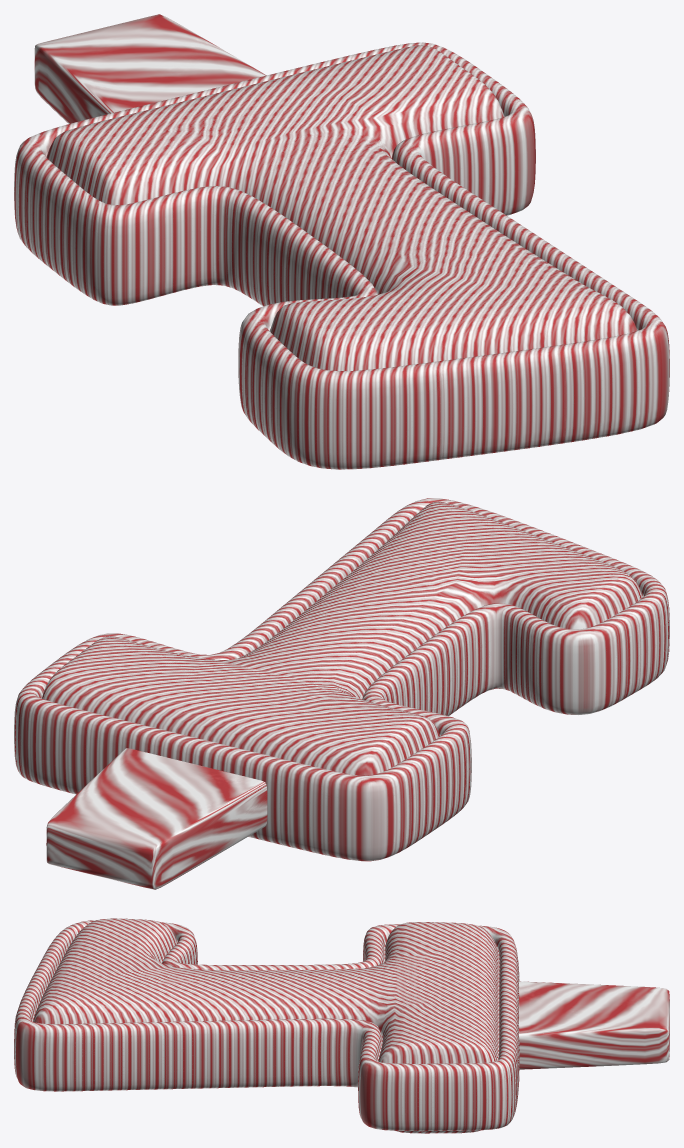
Rendered from one.obj.
3 views of the same model, one above another, from view 1: azimuth 30°, elevation 25°; view 2: azimuth 150°, elevation 25°; view 3: azimuth 270°, elevation 25° (orthographic). The views are drawn at different scales.
Visible parts, largest first — view 1: one; view 2: one; view 3: one.
Part boxes in pixels (left/top/right/bottom): one: left=14, top=14, right=669, bottom=469; one: left=14, top=498, right=669, bottom=889; one: left=14, top=918, right=669, bottom=1133.
Size of the model in its own units: 7.19 by 1.99 by 12.98.
1 material, 1 textured.
